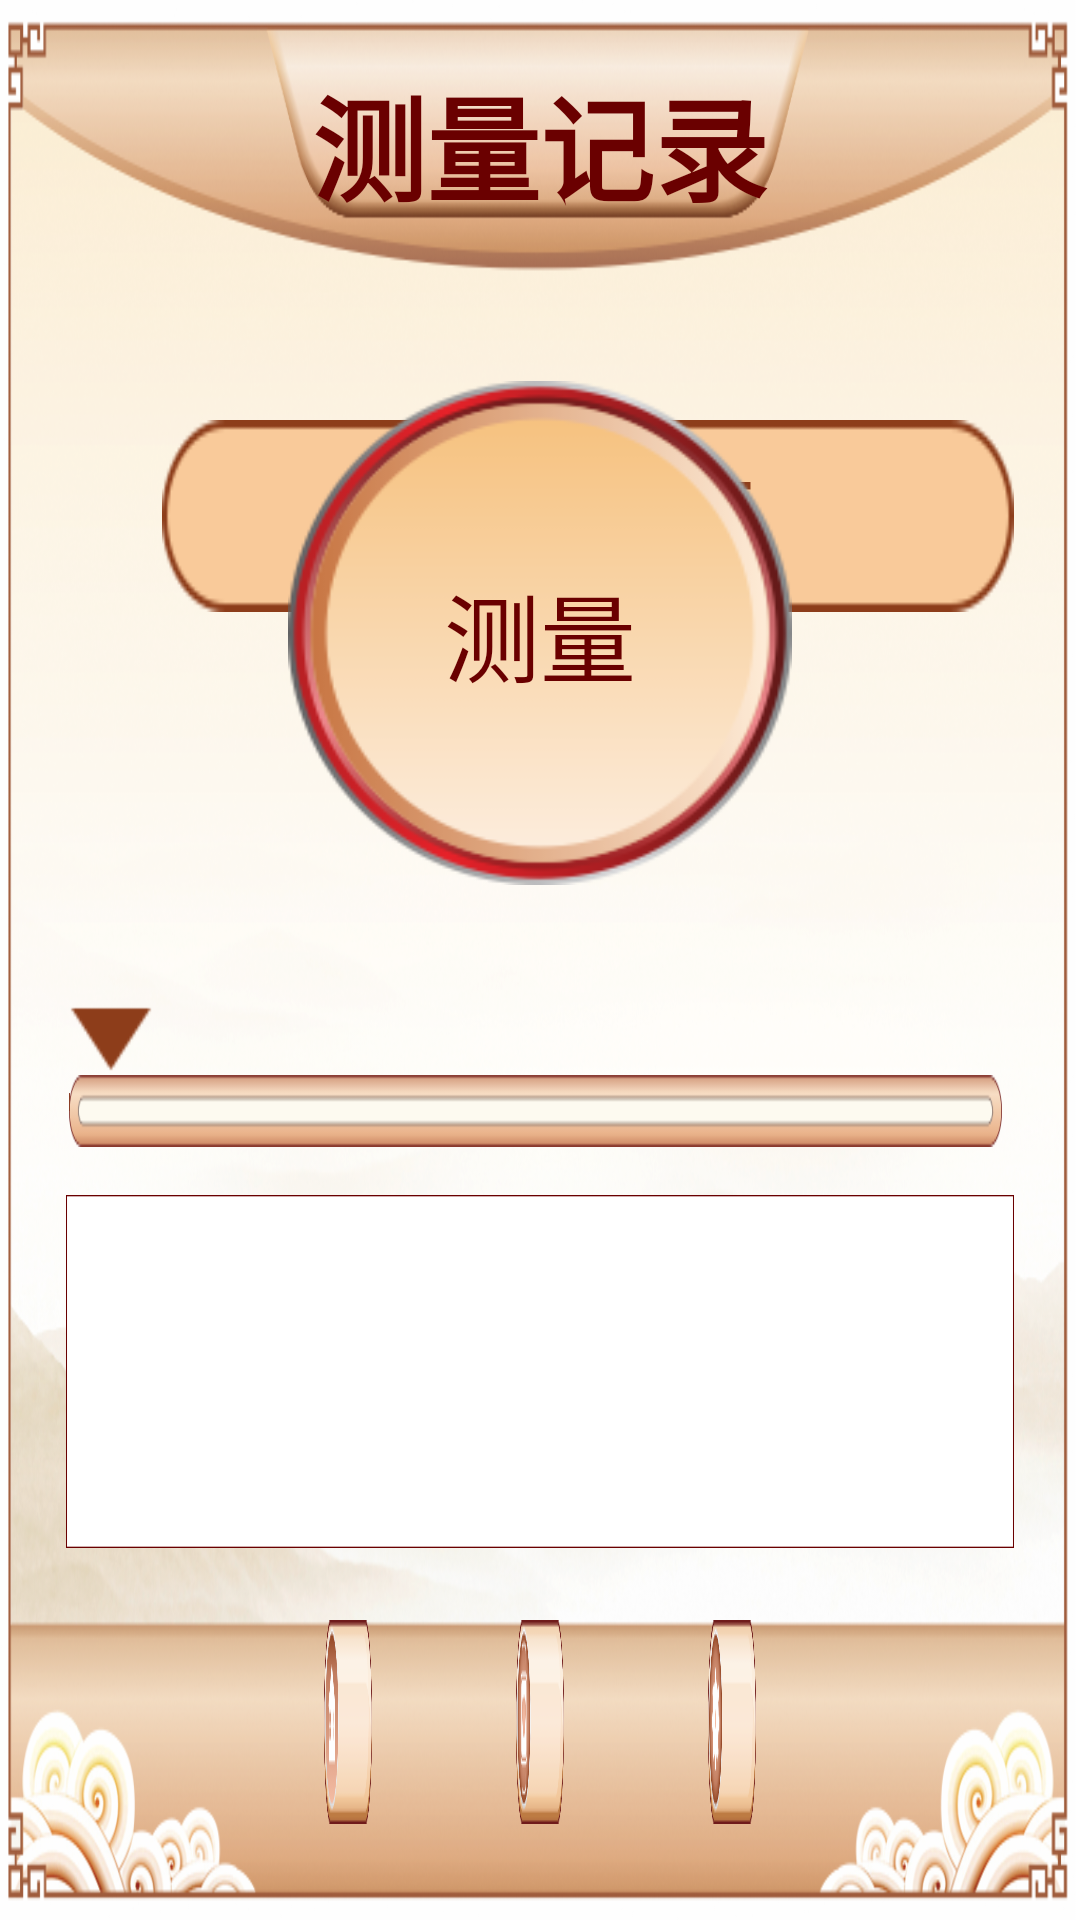

Icon click points for this 1080px x 1920px phone screenshot, format (x=x, y=y):
triangle: (x=111, y=1038)
